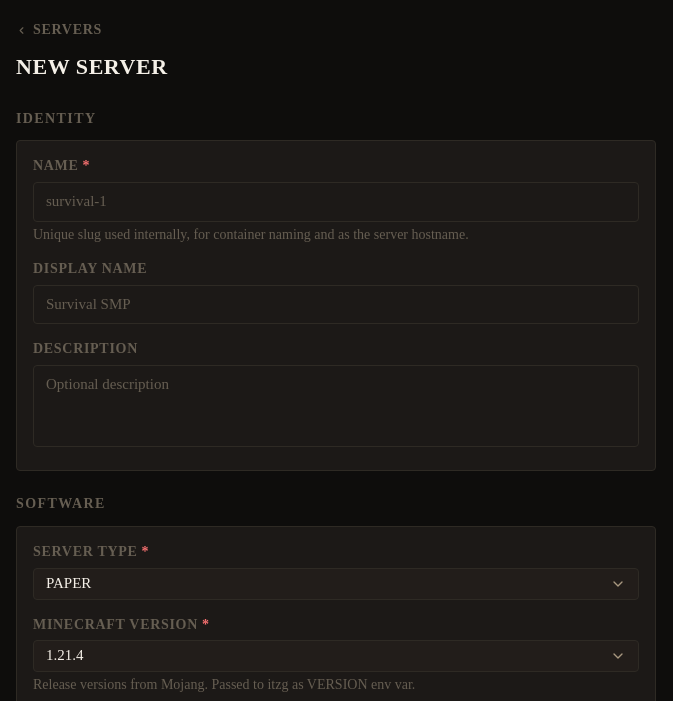
Scenario: NewServerPage › shows default error on exception
Type "test" into the field with placeholder "survival-1" at [336, 202], box [33,182,639,222]
(page scrolled)
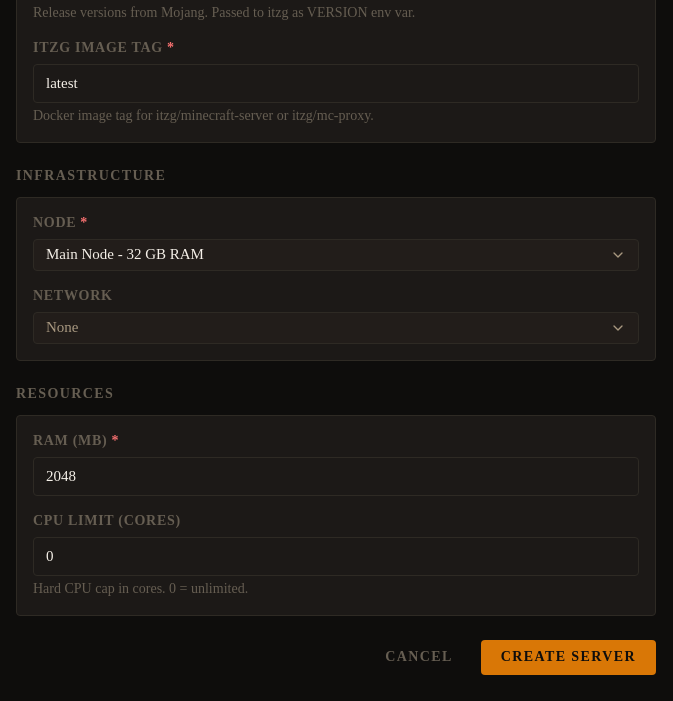
Click the button "Create Server" at [568, 657], box [481,640,656,675]
(page scrolled)
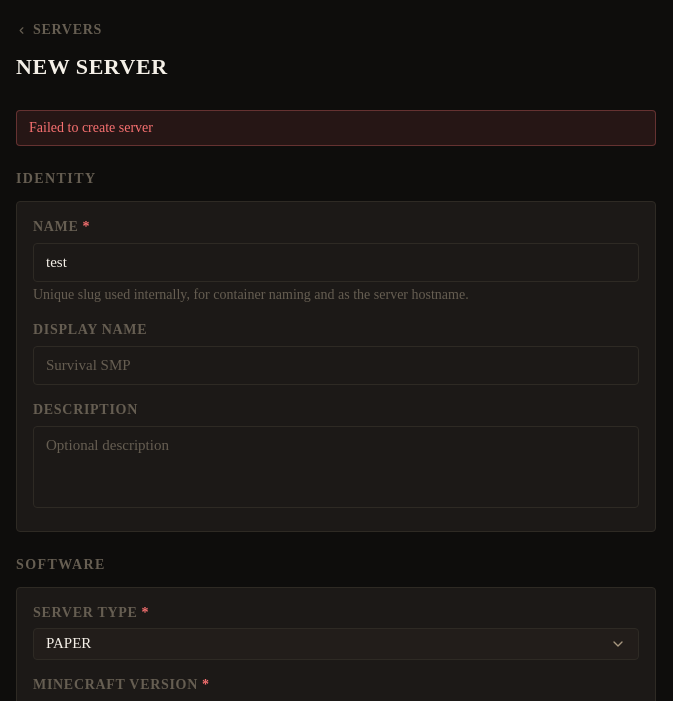
Expected: the text "Failed to create server" is shown, [16,110,656,146]
